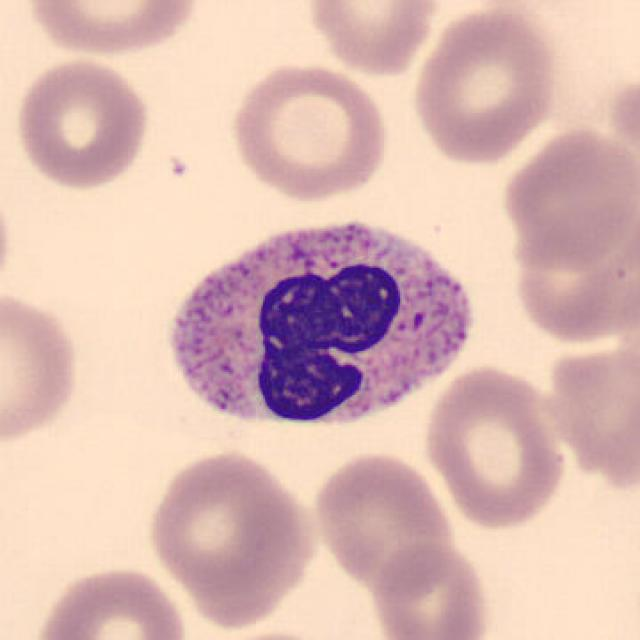Neutrophil: (154, 203, 483, 448)
RBC: (142, 446, 322, 612), (407, 2, 564, 169), (420, 362, 570, 532), (224, 58, 393, 203), (307, 448, 457, 590), (498, 124, 638, 272), (11, 53, 153, 192), (507, 203, 638, 349), (543, 335, 640, 500), (0, 284, 84, 451), (30, 562, 192, 640), (369, 539, 494, 640), (300, 0, 442, 78), (22, 0, 205, 58), (0, 167, 18, 307), (188, 626, 362, 640)
